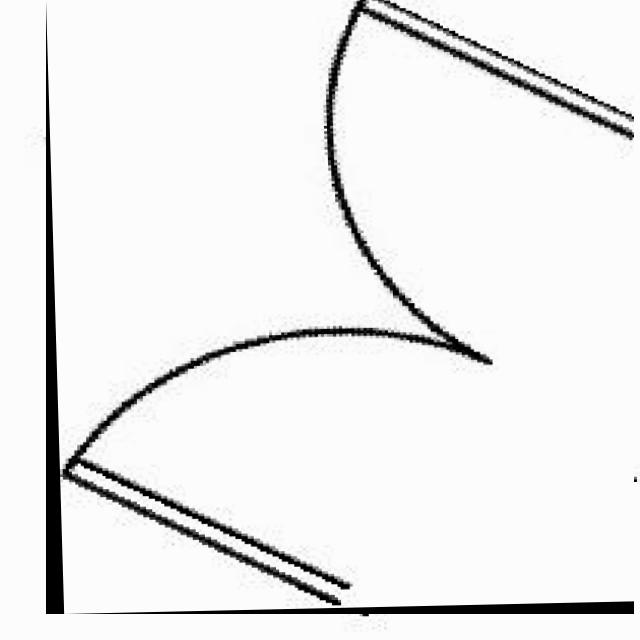door: (46, 0, 634, 614)
